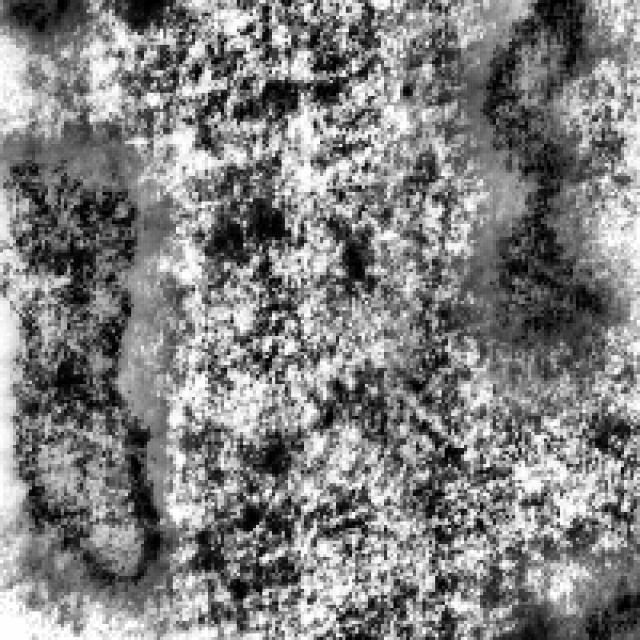Scratches: (0, 131, 163, 586), (464, 0, 605, 186), (470, 192, 605, 346), (538, 570, 636, 634), (0, 0, 86, 48)
